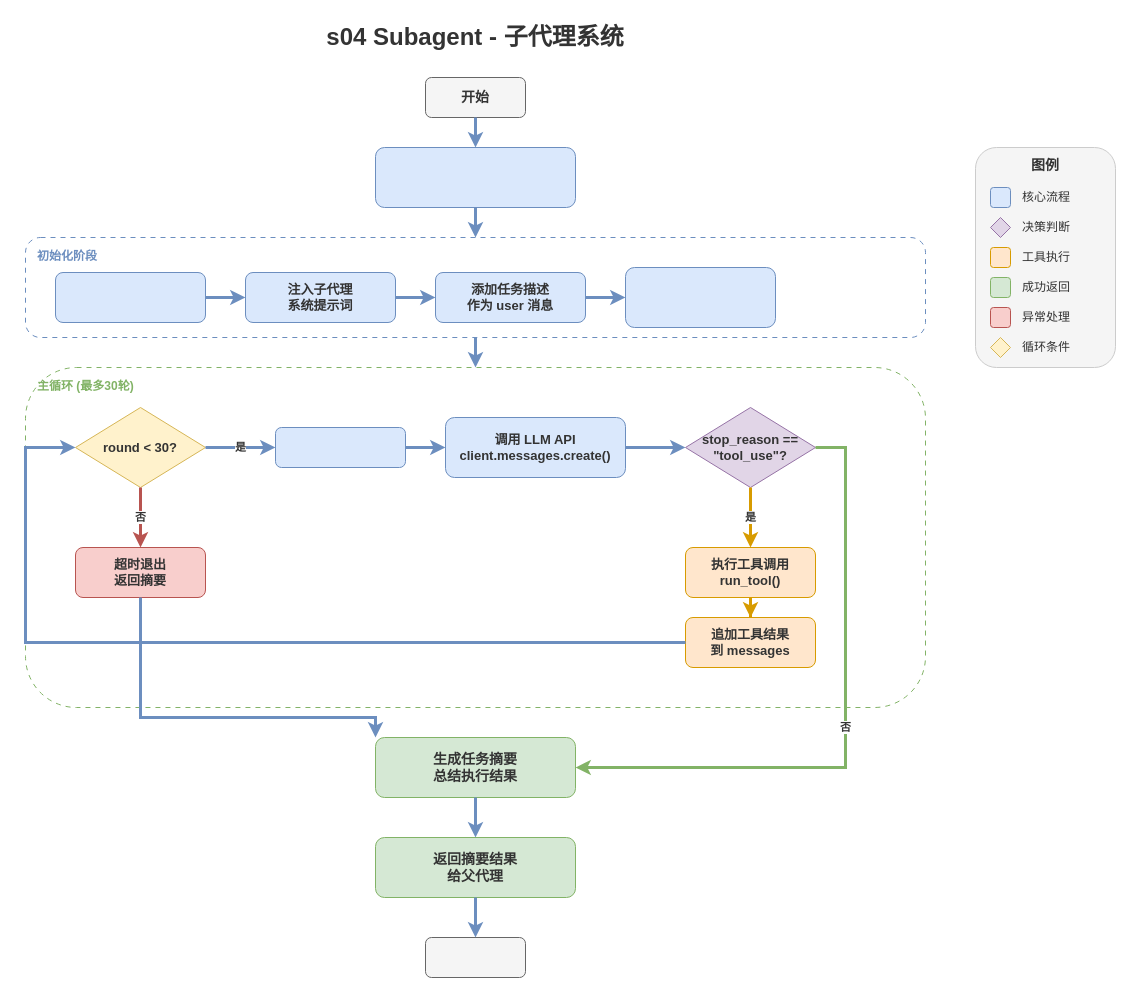
Image size: 1133x995. Some labels were removed from this diagram. The shapes that lost their labels are listed below. From the top down, each one's centre as x and y in pixels, then its label:
the point at 475,177: 调用 run_subagent() 传入任务描述
the point at 130,297: 创建独立 messages 隔离上下文
the point at 700,297: 初始化轮次计数 round = 0 MAX_ROUNDS = 30
the point at 340,447: round += 1
the point at 475,957: 结束
